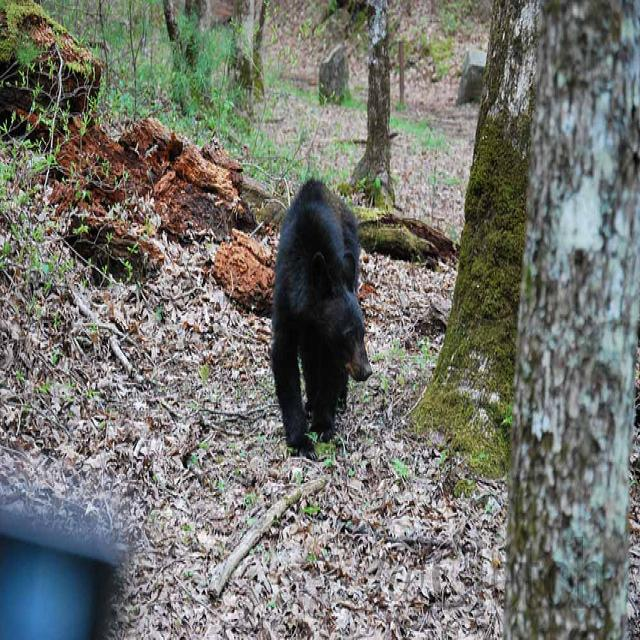Bear: (266, 178, 382, 453)
